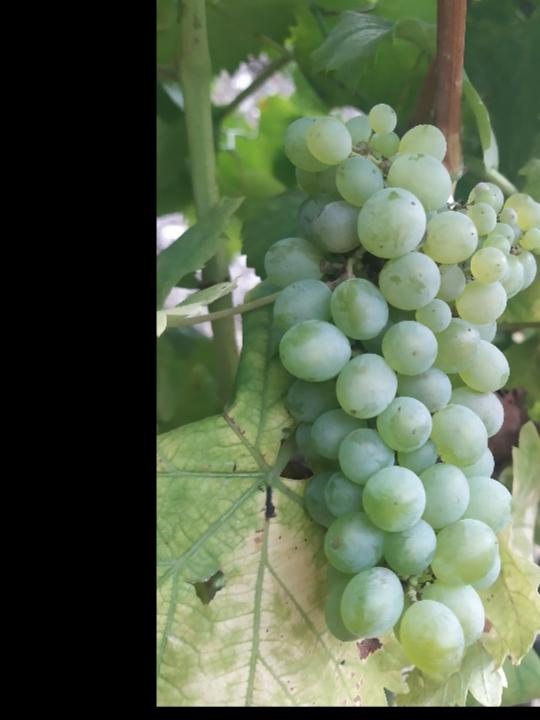grape: (261, 102, 540, 677)
